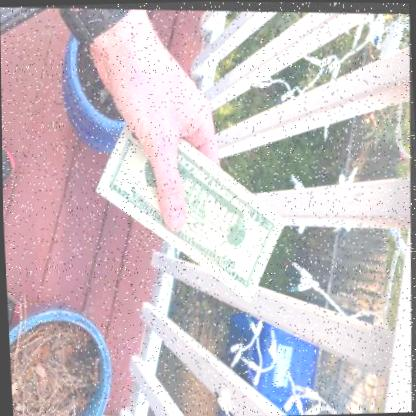twenty-back: (95, 100, 286, 300)
